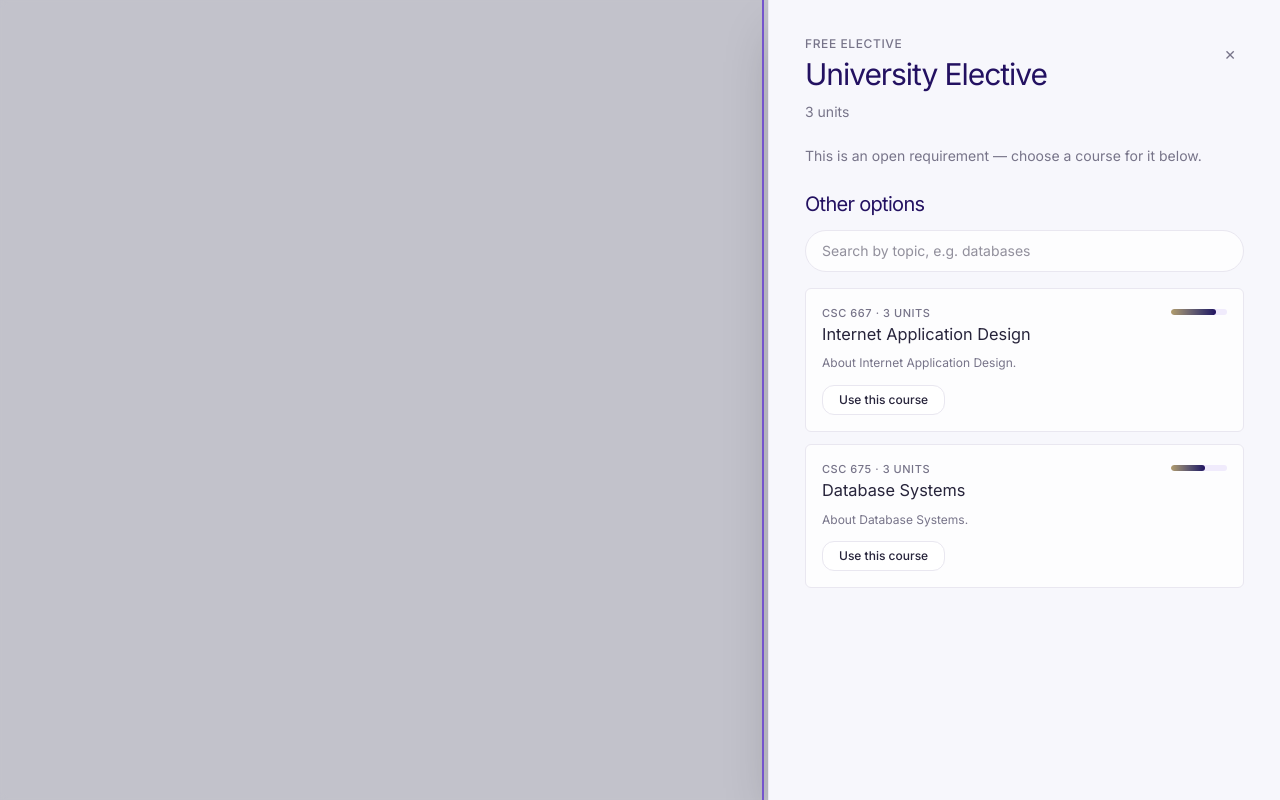
Test: a swap the validator refuses is explained and can be retried
Click the button with aria-label "Use CSC 667": (884, 400) x1=822 y1=385 x2=945 y2=415
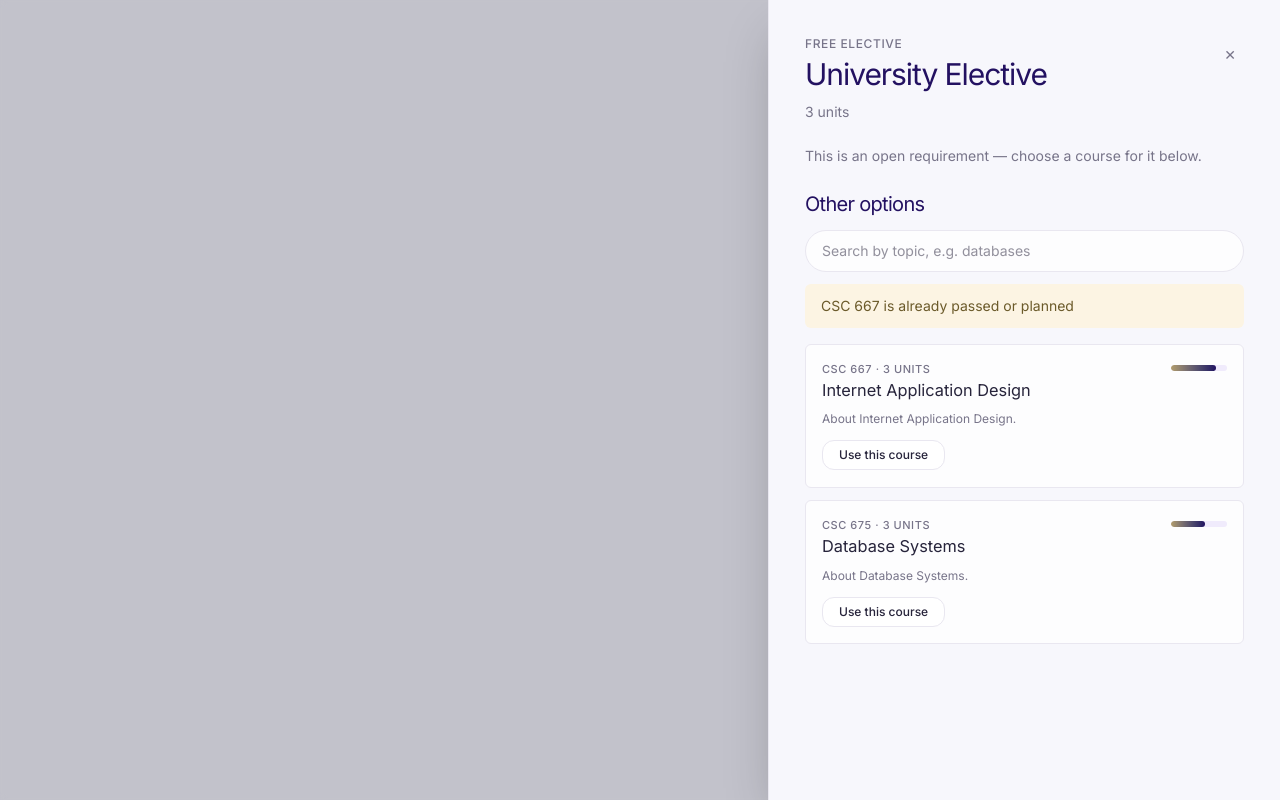
Expected: the button with aria-label "Use CSC 667" is enabled, x1=822 y1=440 x2=945 y2=470
Result: the message shows "already passed or planned" at x1=821 y1=296 x2=1074 y2=314
